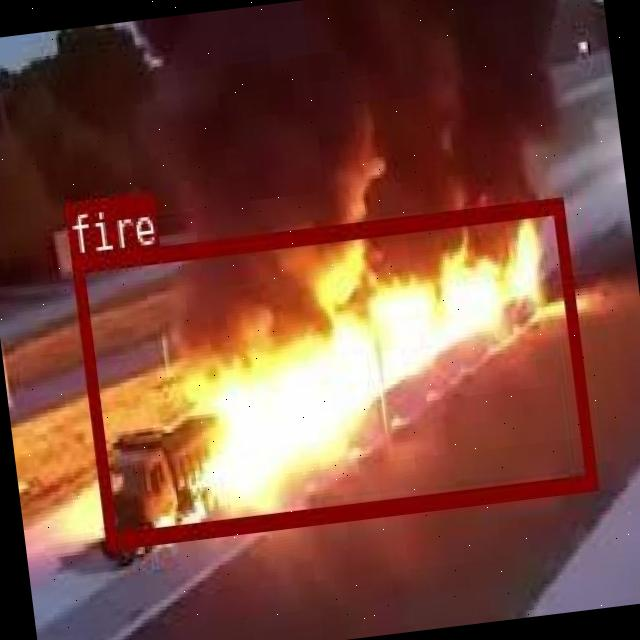fire: (70, 196, 595, 545)
